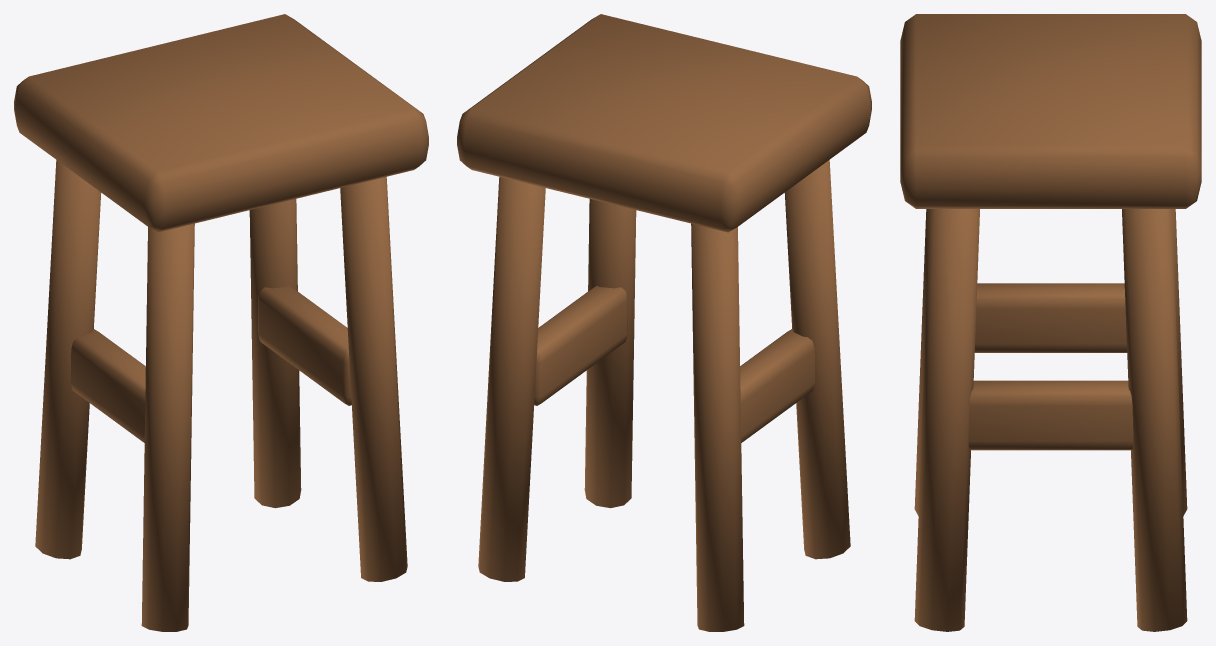
Rendered from skete-tea-stand.glb.
3 views of the same model, side by side, from view 1: azimuth 30°, elevation 25°; view 2: azimuth 150°, elevation 25°; view 3: azimuth 270°, elevation 25° (orthographic). The views are drawn at different scales.
Parts seen in each view (by area): view 1: joined walnut stand; view 2: joined walnut stand; view 3: joined walnut stand.
Boxes of the visible parts, left/top/right/bottom form: joined walnut stand: left=14, top=14, right=428, bottom=631; joined walnut stand: left=457, top=14, right=871, bottom=631; joined walnut stand: left=900, top=14, right=1201, bottom=631.
Size of the model in its own units: 0.86 by 1.37 by 0.76.
